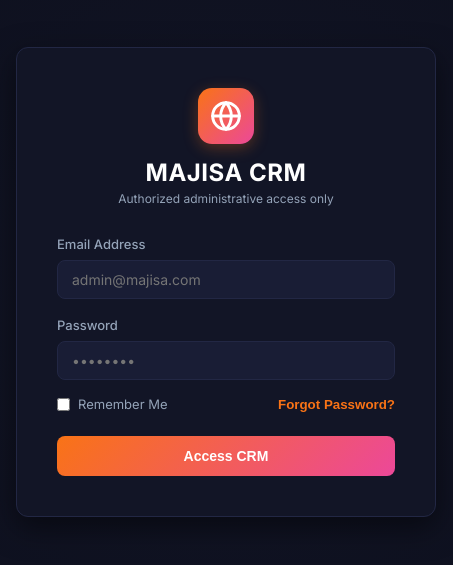
Test: Login Page Component Tests › displays validation error alert on login failure
This screenshot has width=453, height=565.
Type "admin@test.com" into the field with placeholder "admin@majisa.com" at {"x": 226, "y": 280}, box [57,260,395,299]
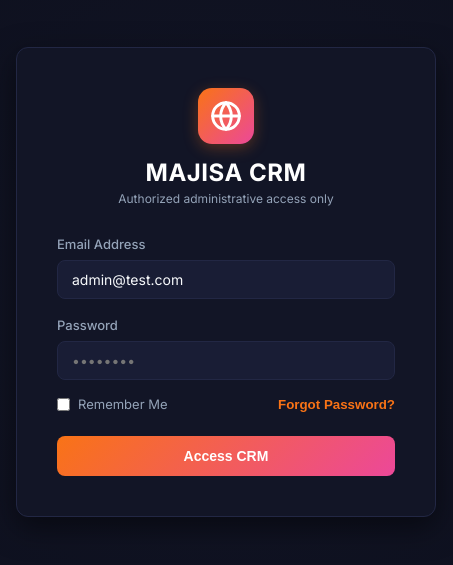
Type "wrongpassword" into the password field with placeholder "••••••••" at {"x": 226, "y": 360}, box [57,341,395,380]
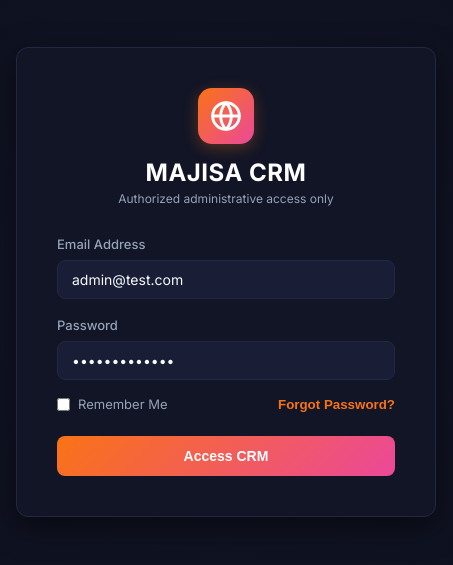
Click the button "Access CRM" at {"x": 226, "y": 456}, box [57,436,395,476]
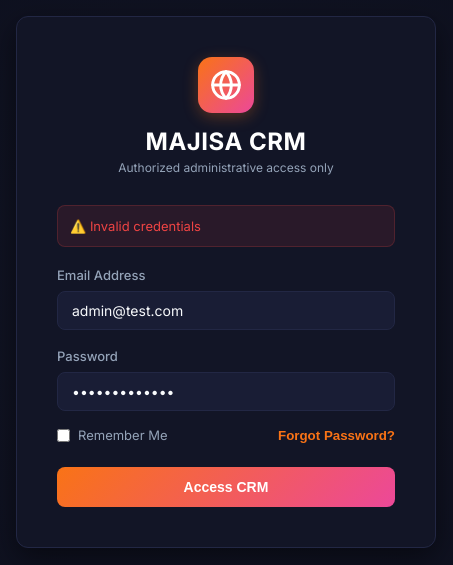
Result: the text "⚠️ Invalid credentials" is shown at [57,205,395,247]
